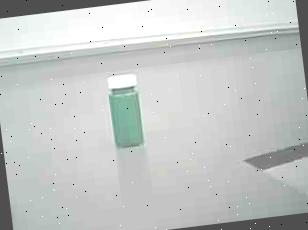Bottle C: (94, 62, 160, 158)
